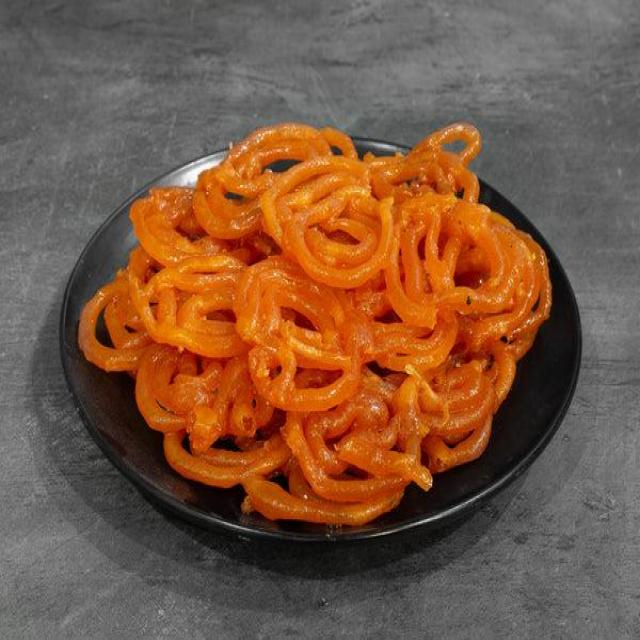jalebi: (121, 124, 522, 520)
